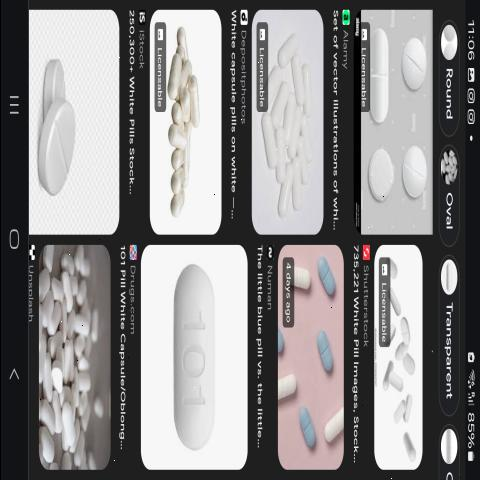Pill: (154, 262, 226, 459), (33, 98, 90, 216), (366, 17, 394, 142), (398, 126, 427, 228), (364, 136, 395, 228), (399, 26, 425, 108), (320, 400, 344, 464), (276, 366, 300, 414)
